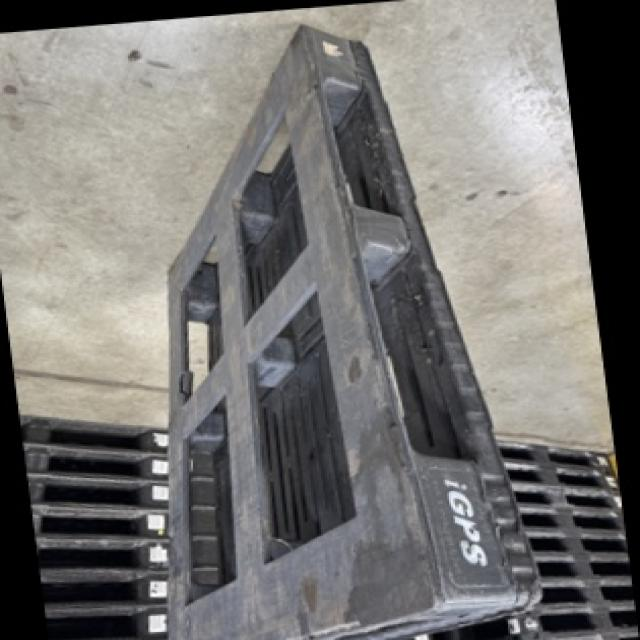igps: (156, 21, 544, 638), (14, 406, 180, 640), (490, 435, 640, 640)
